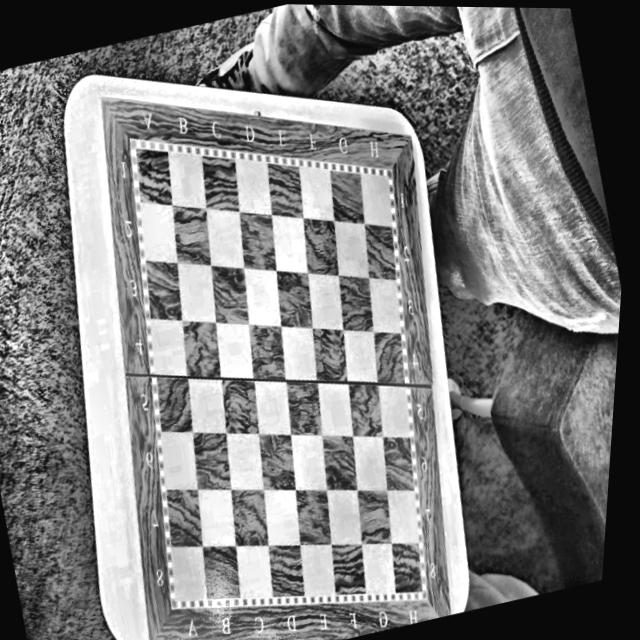chessboard: (129, 135, 427, 610)
p1: (133, 143, 145, 157)
p2: (171, 587, 185, 603)
p3: (415, 578, 426, 595)
p4: (382, 170, 394, 186)
